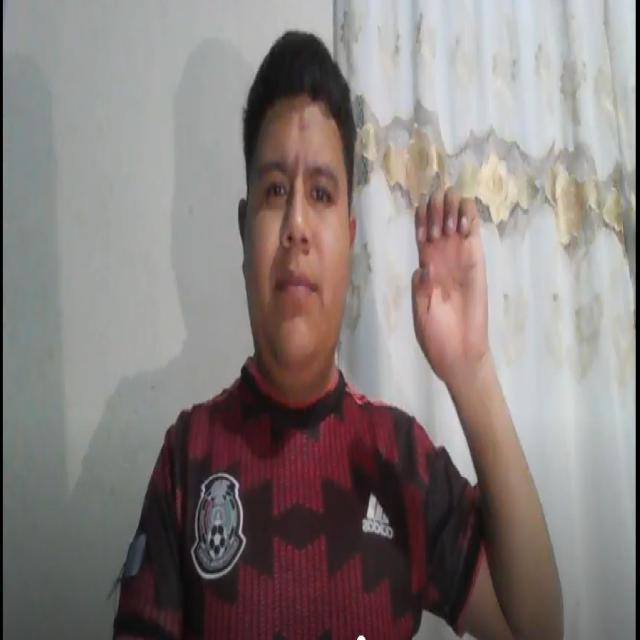E: (405, 181, 495, 378)
